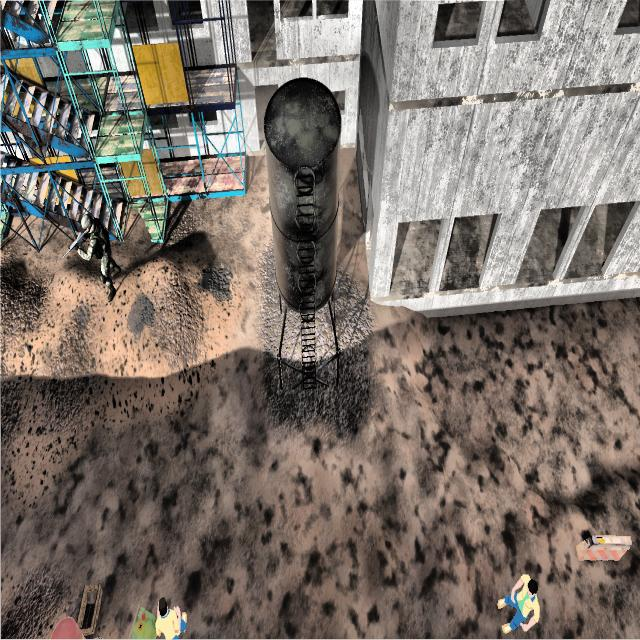bad: (67, 202, 123, 317)
good: (483, 546, 544, 640), (142, 579, 192, 640)
